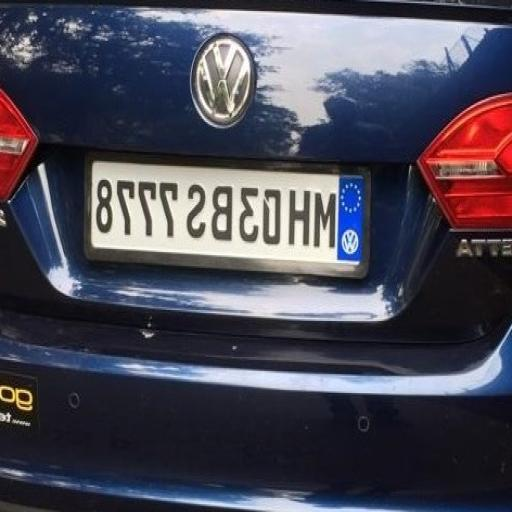License: (91, 160, 366, 264)
